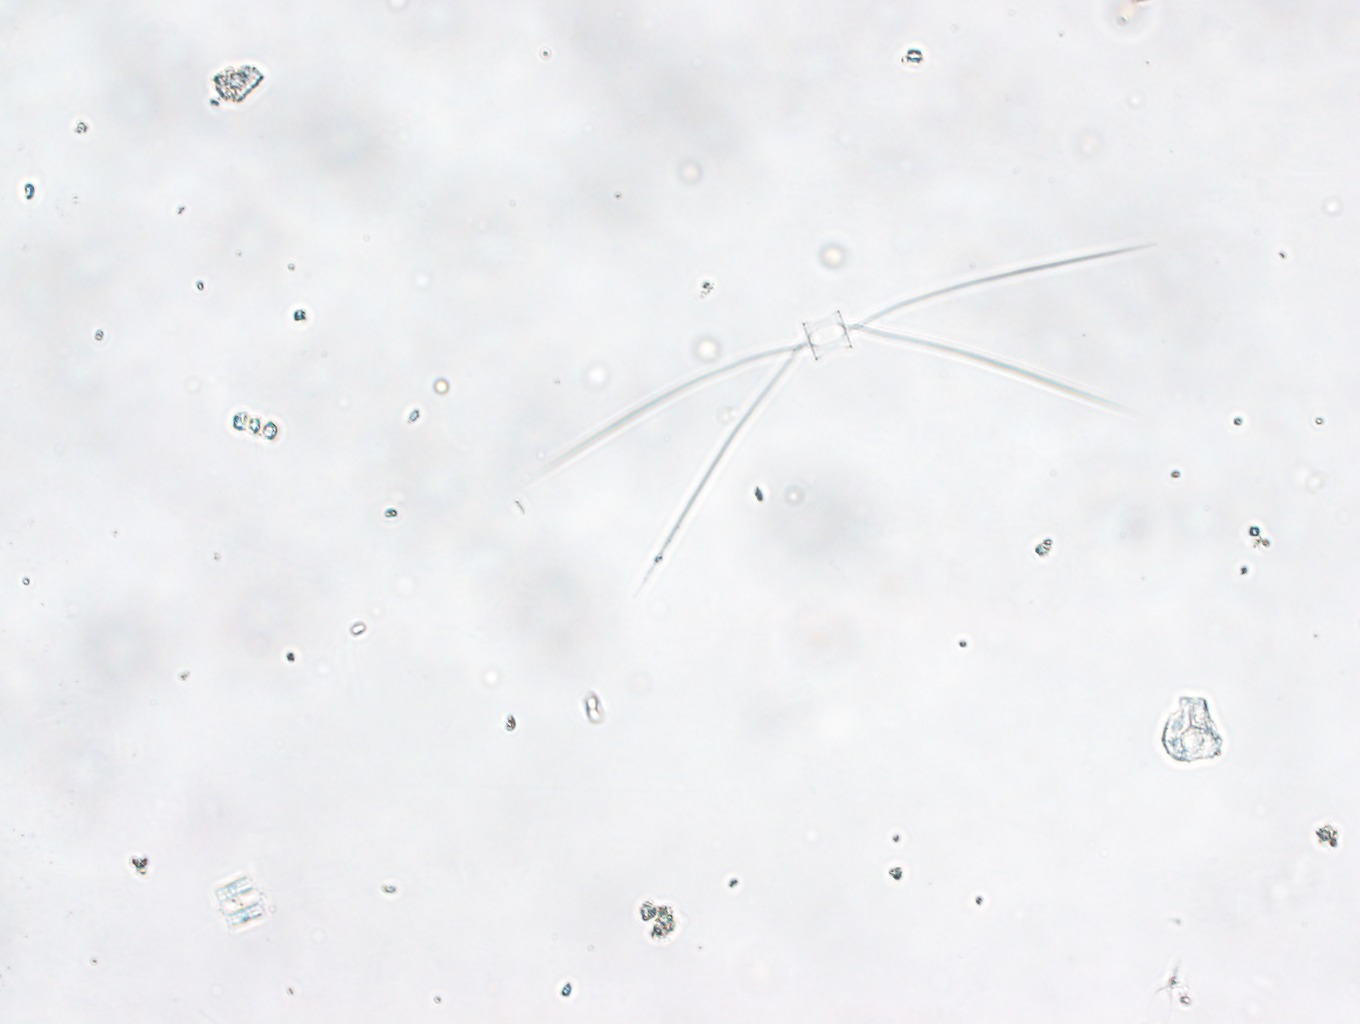chaetoceros: (544, 229, 1154, 574)
